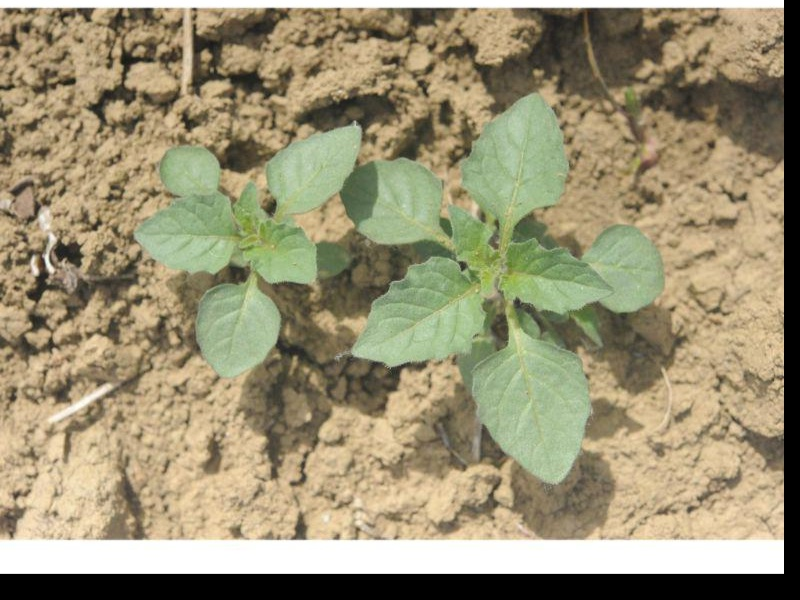nightshade: (342, 90, 664, 480), (134, 121, 360, 376)
